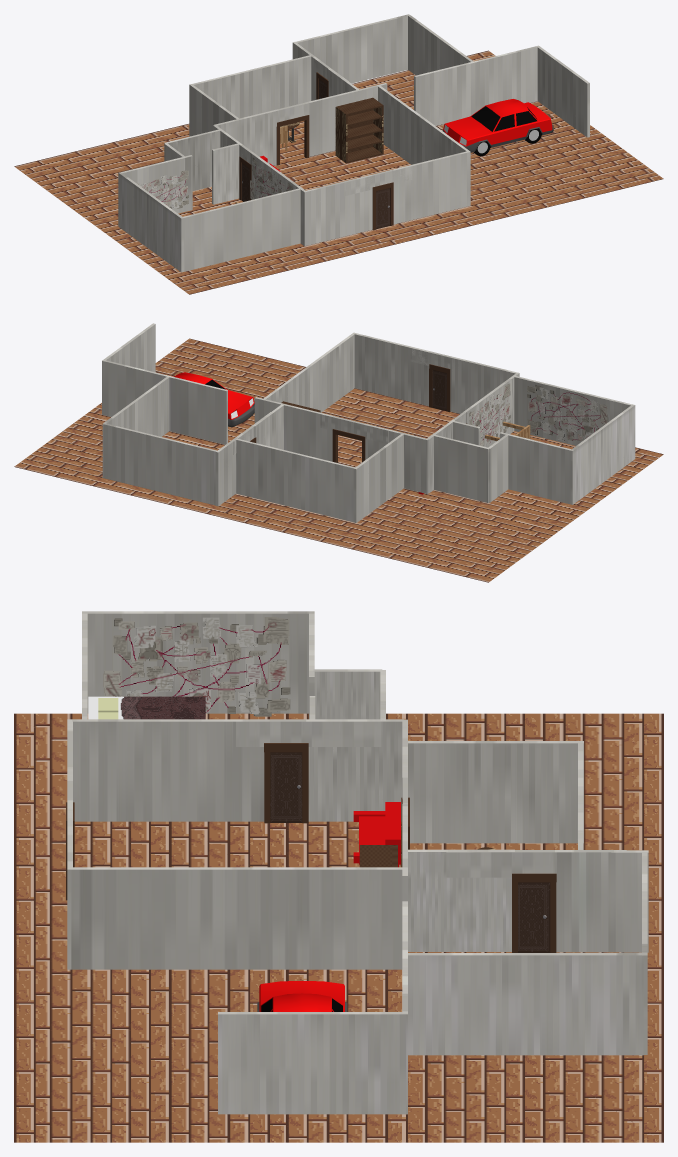
The model's file is house new.fbx.
3 renders of one model, top to bottom at view 1: azimuth 30°, elevation 25°; view 2: azimuth 150°, elevation 25°; view 3: azimuth 270°, elevation 25°, orthographic. The views are drawn at different scales.
Visible parts, largest first — view 1: Floor w bottom border, Cube.025, Cube.056, Cube.054, Cube.037, Cube.001, Car, Cube.007, Cube.002, Cube.011, Cube.057, Plane.001 (+15 smaller); view 2: Floor w bottom border, Cube.037, Cube.054, Cube.056, Cube.001, Cube.007, Cube.024, Cube.011, Cube.025, Cube.014, Cube.036, Cube.005 (+18 smaller); view 3: Floor w bottom border, Cube.011, Cube.055, Cube.057, Cube.008, Cube.036, Cube.007, 462558675_1278448043154058_3585354190626562852_n.002, Cube.041, Cube.042, Cube.004, Cube.017 (+12 smaller).
Boxes of the visible parts, left/top/right/bottom form: Floor w bottom border: left=14, top=50, right=663, bottom=294; Cube.025: left=183, top=188, right=300, bottom=271; Cube.056: left=414, top=45, right=539, bottom=125; Cube.054: left=295, top=14, right=409, bottom=83; Cube.037: left=190, top=55, right=311, bottom=118; Cube.001: left=391, top=151, right=470, bottom=224; Car: left=442, top=99, right=553, bottom=156; Cube.007: left=118, top=172, right=183, bottom=272; Cube.002: left=303, top=175, right=372, bottom=245; Cube.011: left=378, top=85, right=468, bottom=164; Cube.057: left=537, top=46, right=589, bottom=137; Plane.001: left=335, top=97, right=383, bottom=163; Floor w bottom border: left=14, top=338, right=663, bottom=582; Cube.037: left=236, top=438, right=356, bottom=522; Cube.054: left=102, top=423, right=217, bottom=505; Cube.056: left=102, top=360, right=227, bottom=444; Cube.001: left=353, top=332, right=431, bottom=406; Cube.007: left=570, top=404, right=635, bottom=504; Cube.024: left=500, top=432, right=570, bottom=504; Cube.011: left=264, top=333, right=354, bottom=412; Cube.025: left=514, top=376, right=632, bottom=445; Cube.014: left=434, top=435, right=489, bottom=502; Cube.036: left=353, top=434, right=403, bottom=522; Cube.005: left=254, top=397, right=335, bottom=461; Floor w bottom border: left=14, top=713, right=663, bottom=1142; Cube.011: left=71, top=867, right=402, bottom=969; Cube.055: left=408, top=953, right=643, bottom=1055; Cube.057: left=218, top=1012, right=407, bottom=1114; Cube.008: left=72, top=719, right=269, bottom=821; Cube.036: left=408, top=741, right=583, bottom=843; Cube.007: left=82, top=611, right=314, bottom=713; 462558675_1278448043154058_3585354190626562852_n.002: left=103, top=617, right=290, bottom=716; Cube.041: left=555, top=850, right=648, bottom=952; Cube.042: left=408, top=849, right=514, bottom=951; Cube.004: left=306, top=719, right=403, bottom=821; Cube.017: left=236, top=719, right=381, bottom=746.
Size of the model in its own units: 3950 by 480 by 2528.
Materials: 35 (20 with a texture image).
